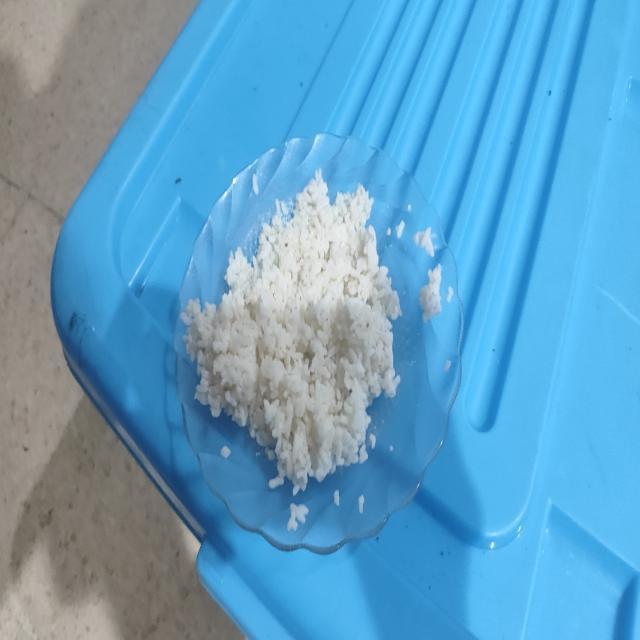nasi_putih: (183, 172, 401, 489)
